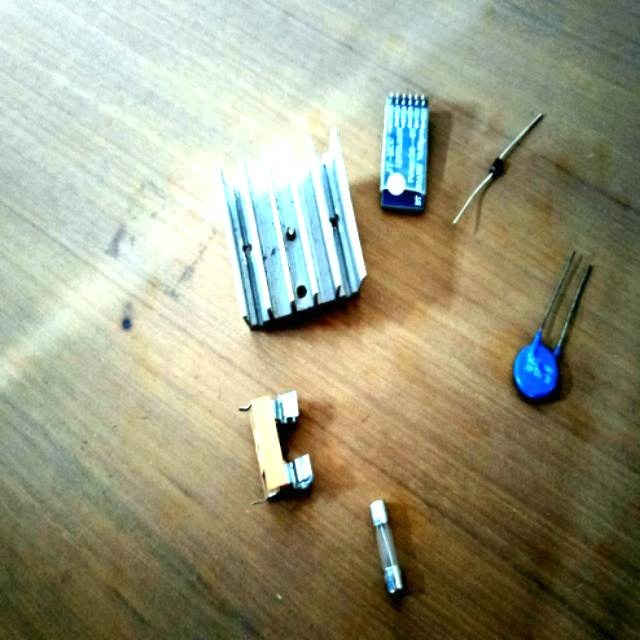capacitor: (514, 260, 587, 398)
